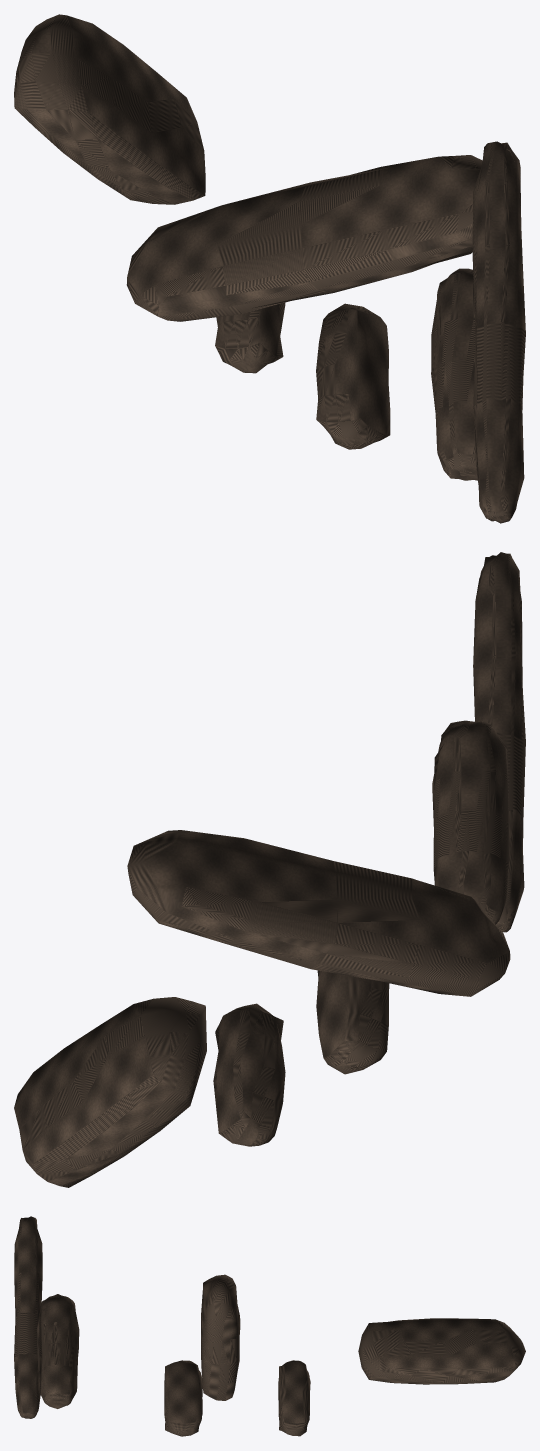
File: gun_pump_low.glb
The picture shows the model from 3 angles, top to bottom: view 1: azimuth 30°, elevation 25°; view 2: azimuth 150°, elevation 25°; view 3: azimuth 270°, elevation 25°; orthographic projection. The views are drawn at different scales.
Bounding box in the file's own units: 0.319 × 0.3239 × 0.6928.
Materials: 1 (1 with a texture image).
